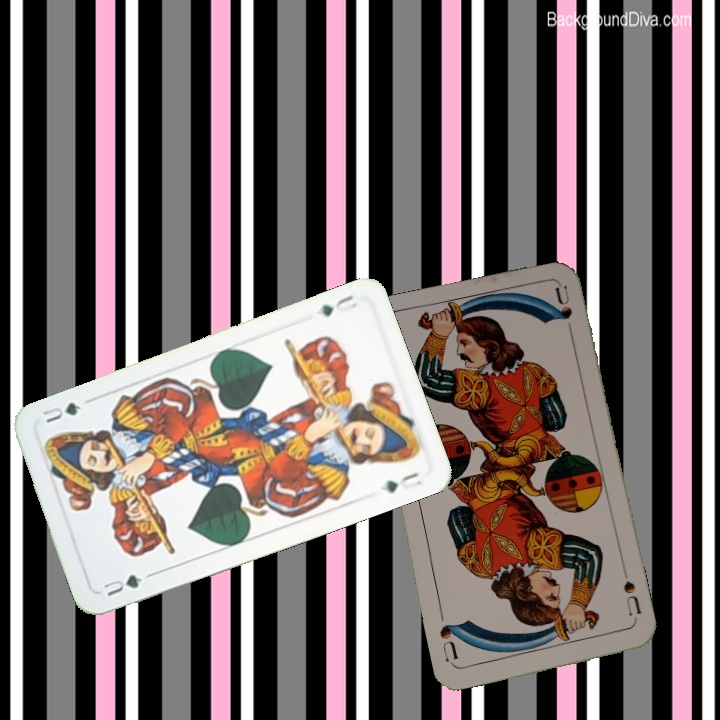GU: (99, 570, 145, 599), (315, 291, 360, 320)
SU: (619, 567, 644, 625)
